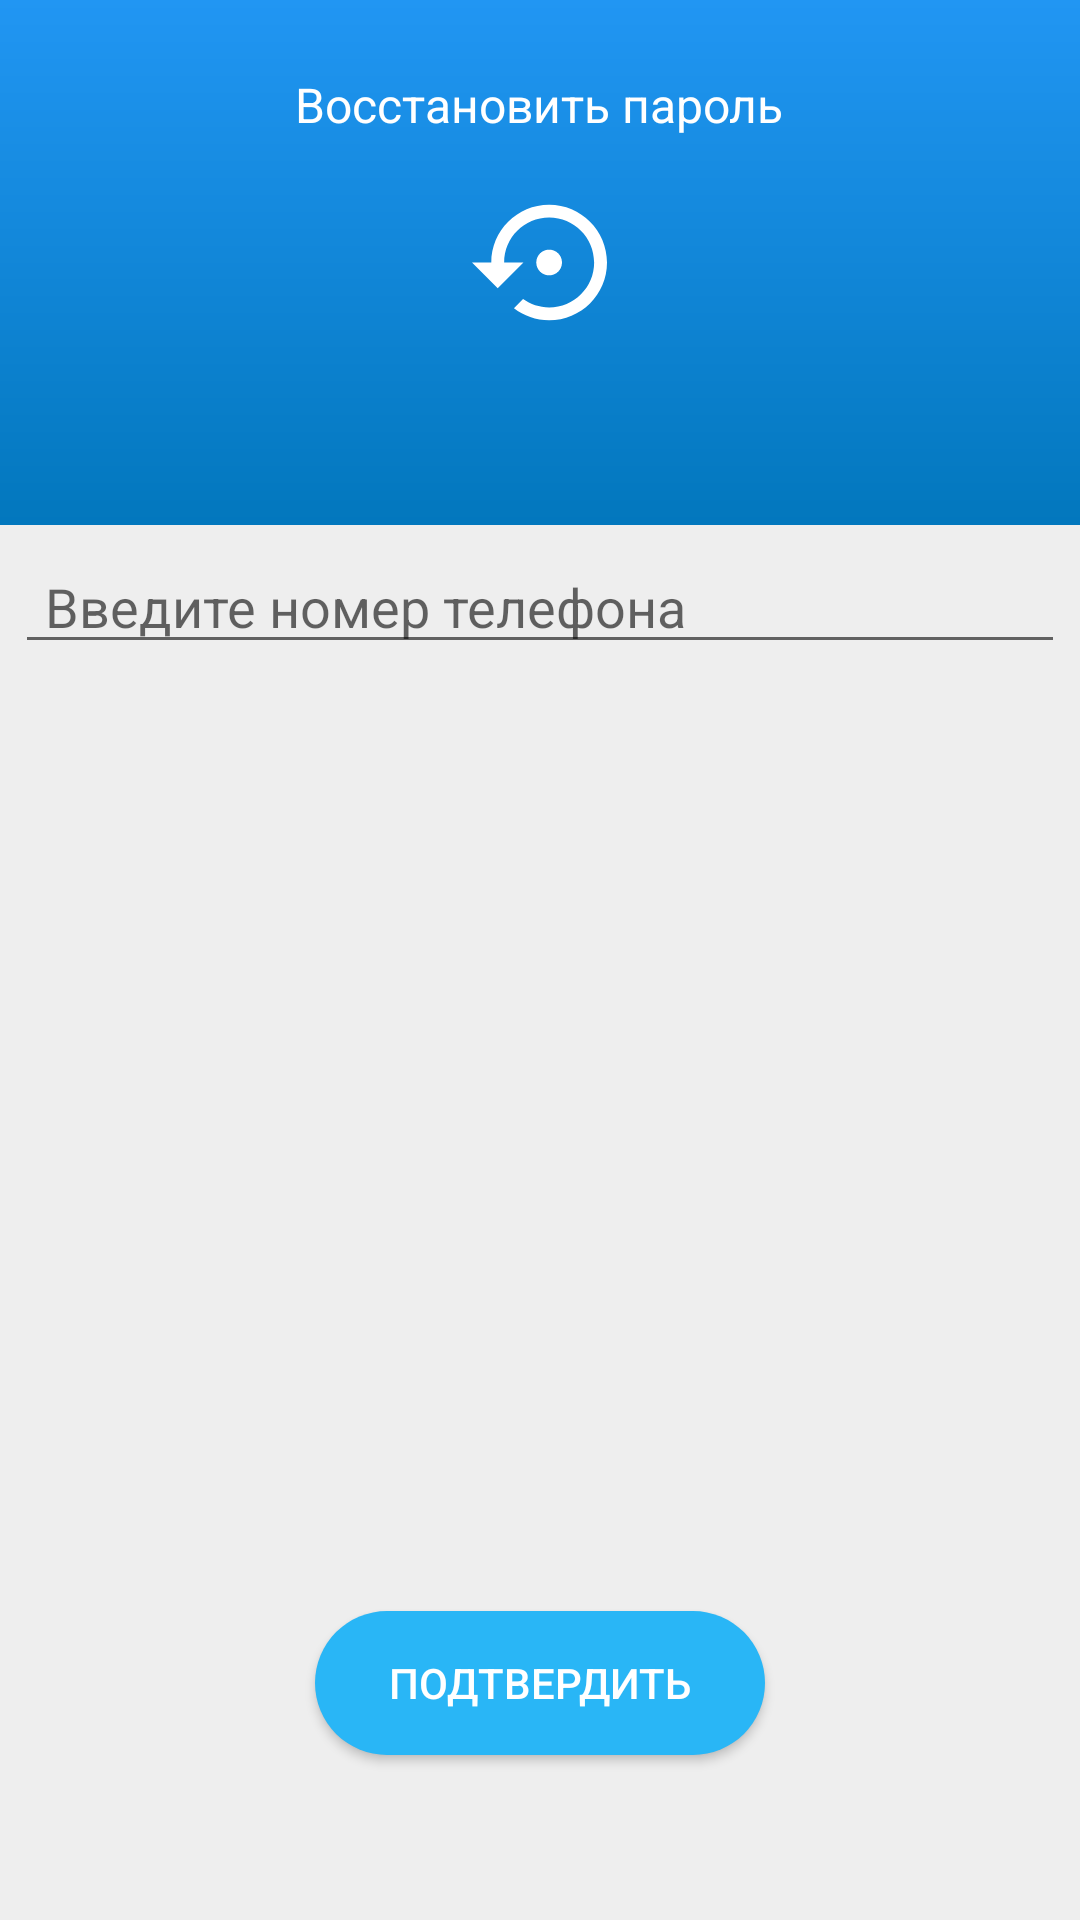

Icons on this 1080×1920 Android screen, each with the point to tap as [x,y]:
restore: [539,262]
